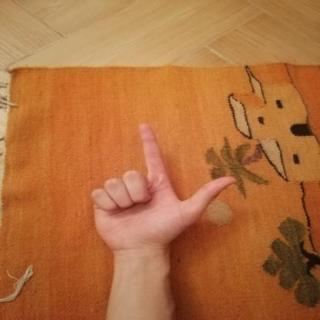LAAM: (78, 115, 244, 257)
